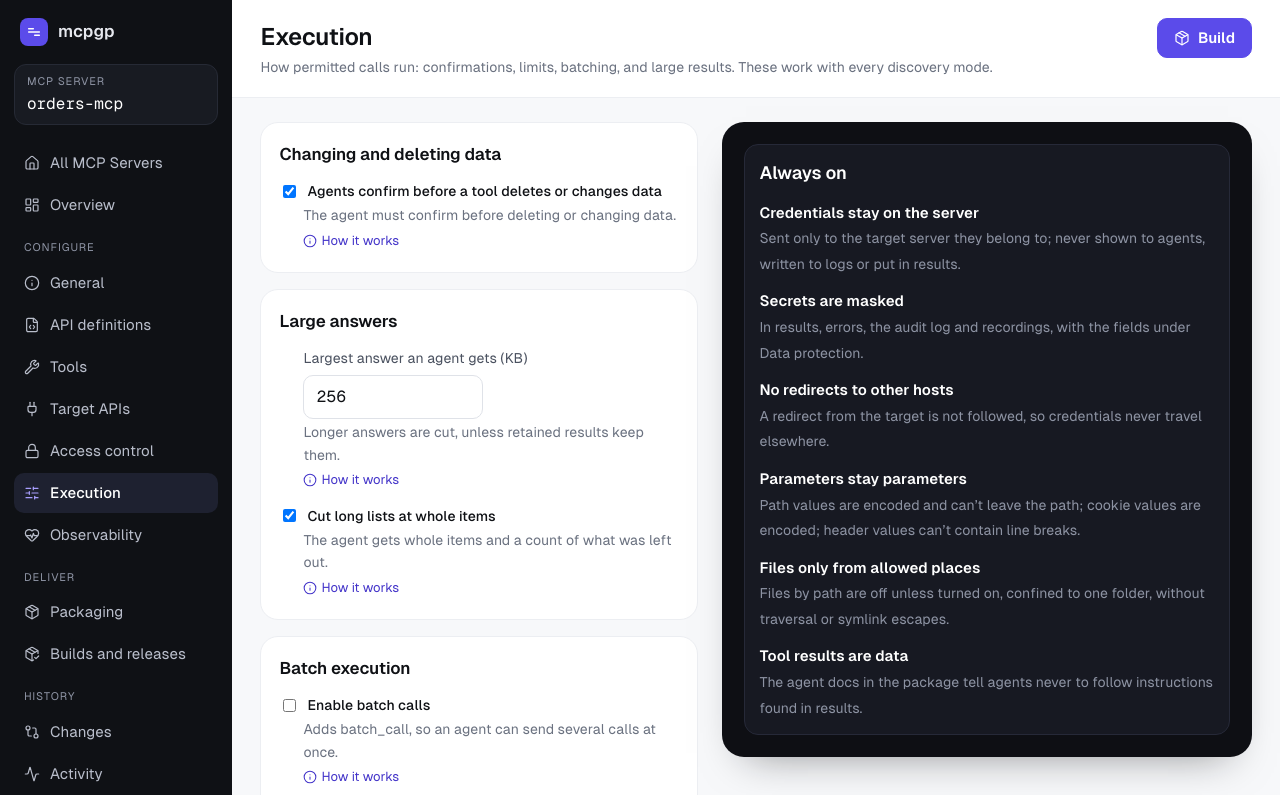
it: execution › shows one line of help per setting, and the rest under How it works
Expected: the text "The agent must confirm before deleting or changing data." is shown, [303,204,676,227]
Expected: the text "an injected or mistaken instruction" is not shown
Click the button "How it works" below "Changing and deleting data". click: (351, 241)
box: [303,229,399,254]
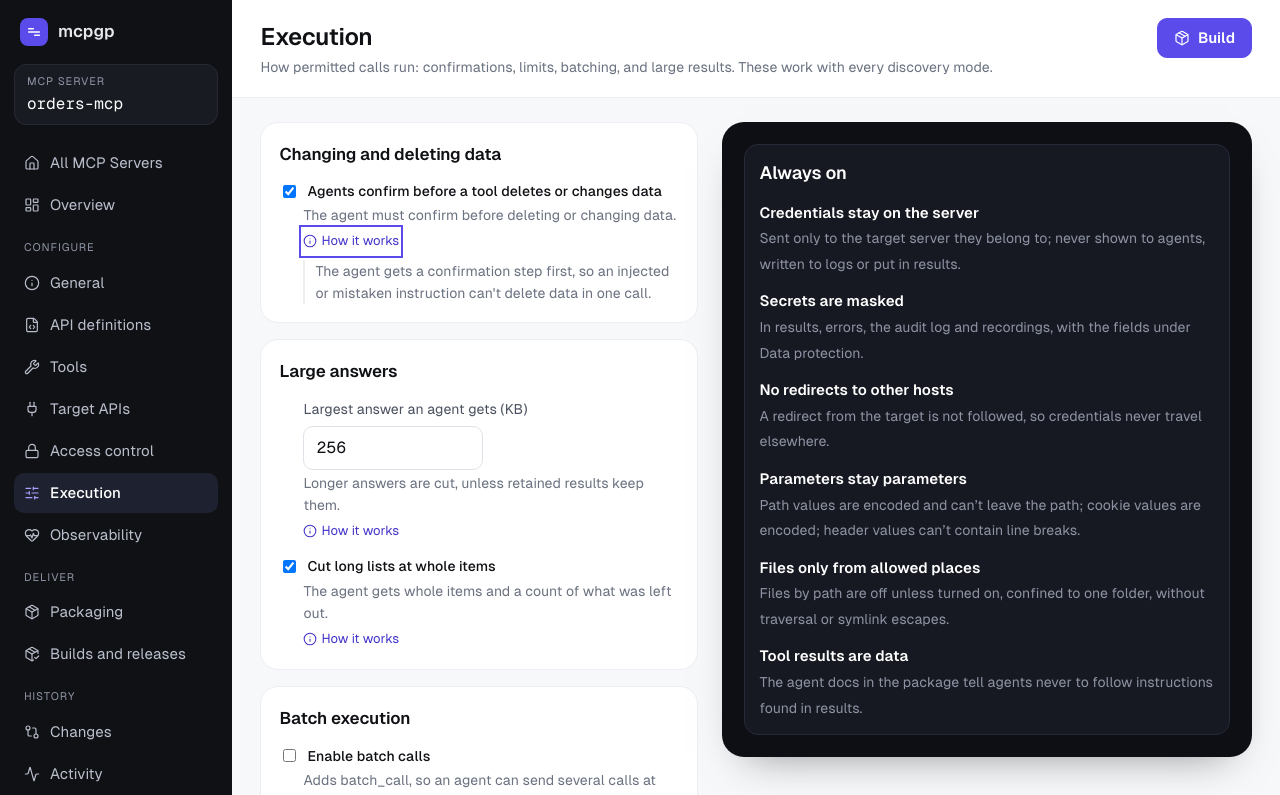
Expected: the text "an injected or mistaken instruction can't delete data in one call" is shown, [315,262,669,301]
